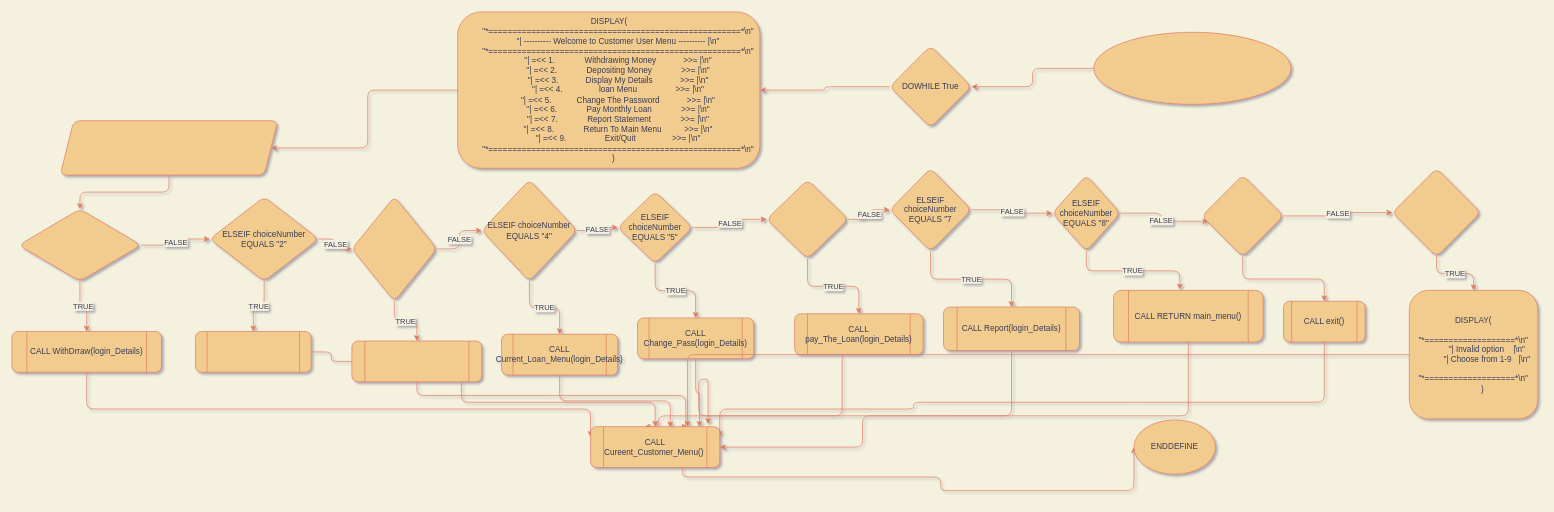
Image size: 1554x512. Some labels were removed from this diagram. The shapes that lost their labels are listed below. From the top down, each one's centre as x and y in pixels, then its label:
(x=1192, y=68): DEFINE Cureent_Customer_Menu(login_Details)
(x=169, y=147): SET choiceNumber TO GET("=<< Select Your Choice Number From The Above Menu; ")
(x=807, y=219): ELSEIF choiceNumber EQUALS "6"
(x=1242, y=215): ELSEIF choiceNumber EQUALS "9"
(x=1436, y=212): ELSE THEN
(x=79, y=244): IF choiceNumber EQUALS "1"
(x=394, y=248): ELSEIF choiceNumber EQUALS "3"
(x=253, y=351): CALL Deposit(login_Details)
(x=416, y=361): ALL Display_Details(login_Details)
